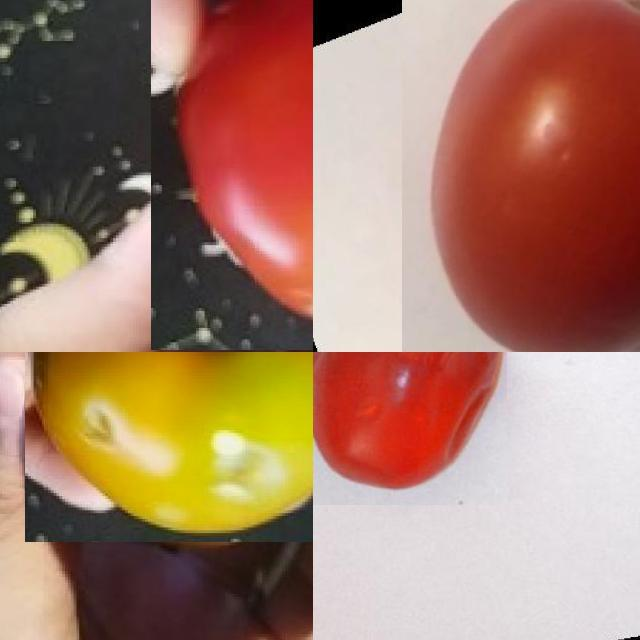Fresh Tomato: (402, 0, 640, 352), (151, 0, 313, 350)
Rotten Tomato: (25, 352, 313, 542), (313, 352, 506, 505)
